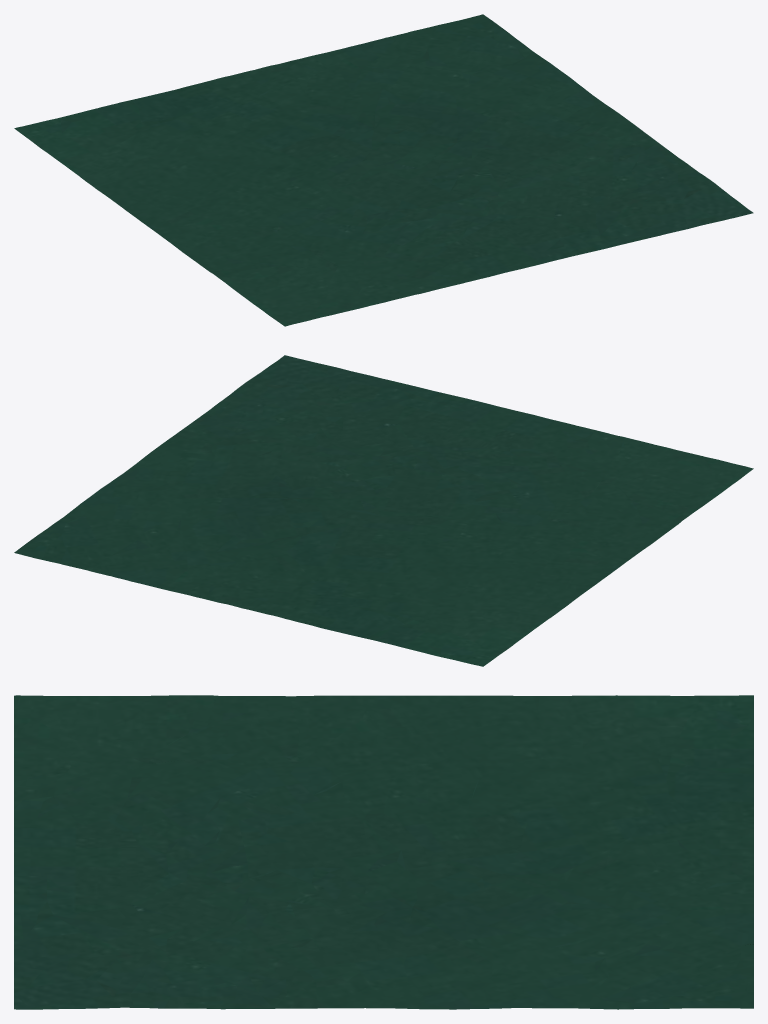
3 views of the same model, one above another, from view 1: azimuth 30°, elevation 25°; view 2: azimuth 150°, elevation 25°; view 3: azimuth 270°, elevation 25° (orthographic). The views are drawn at different scales.
Bounding box in the file's own units: 209 × 0.7215 × 209.
Materials: 3 (3 with a texture image).
